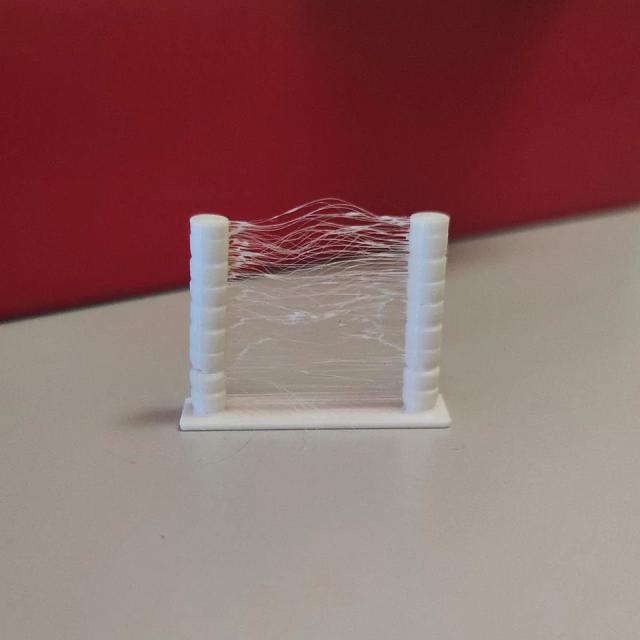stringing: (227, 191, 409, 395)
